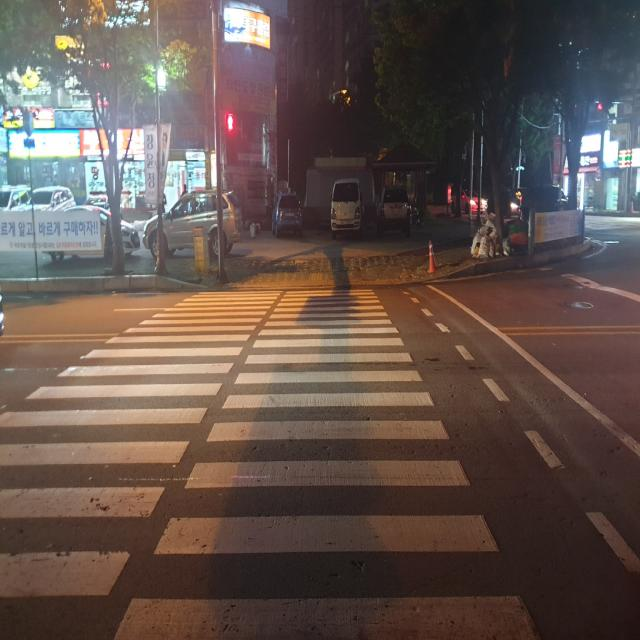빨간불: (224, 112, 237, 165)
횡단보도: (0, 287, 544, 640)
